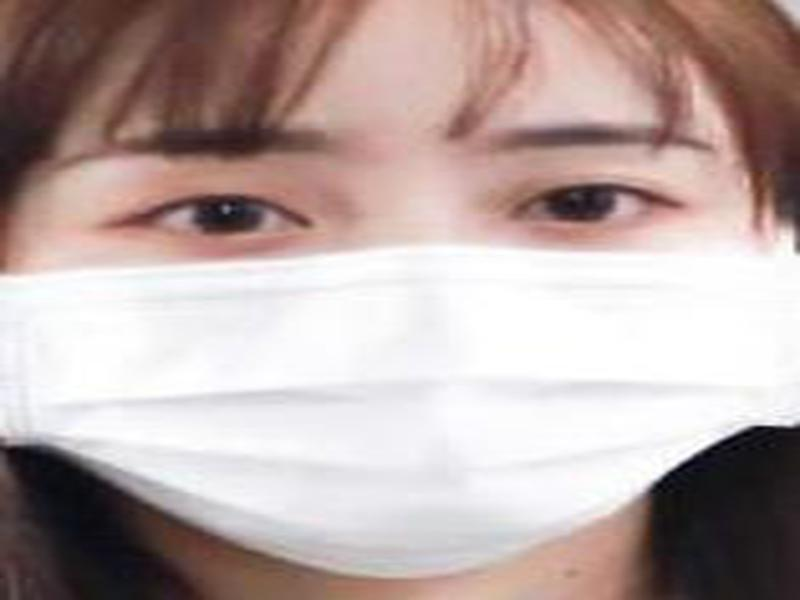with_mask: (3, 1, 796, 579)
